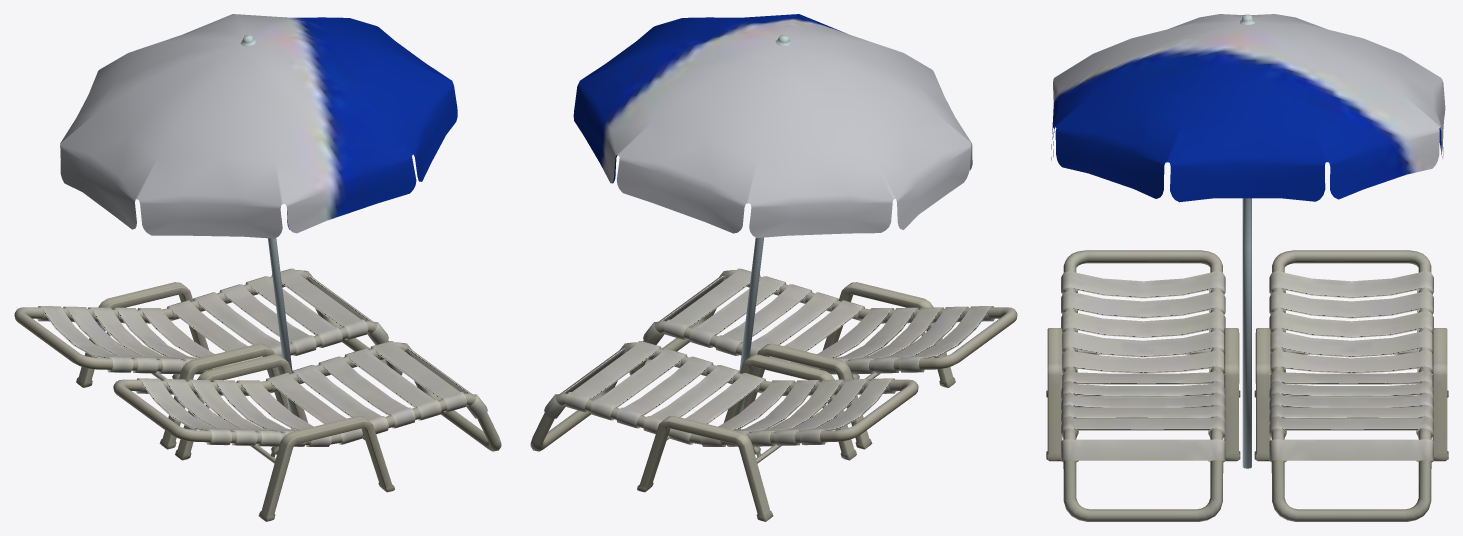
The picture shows the model from 3 angles, left to right: view 1: azimuth 30°, elevation 25°; view 2: azimuth 150°, elevation 25°; view 3: azimuth 270°, elevation 25°; orthographic projection. The views are drawn at different scales.
Size of the model in its own units: 19.59 by 23.25 by 19.79.
Materials: 2 (2 with a texture image).
